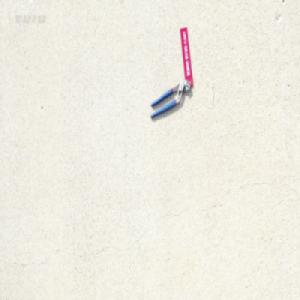Label: (179, 27, 194, 87)
Pliers: (150, 78, 191, 119)
